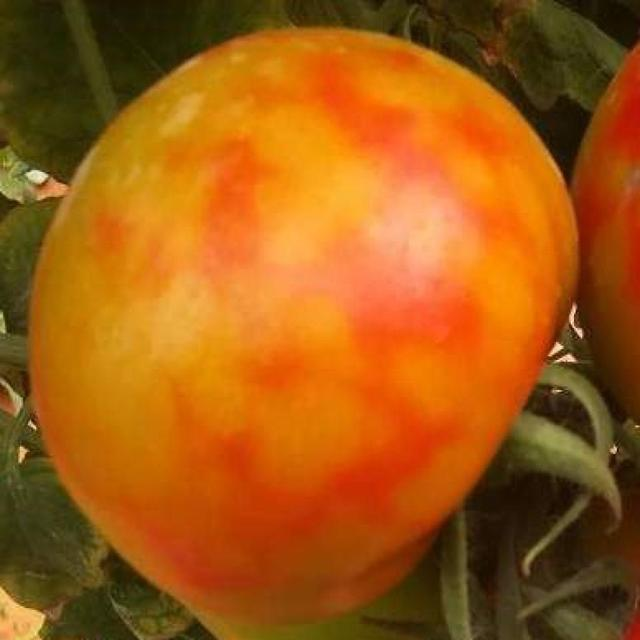Spotted wilt Virus Fruit: (19, 14, 387, 411)
